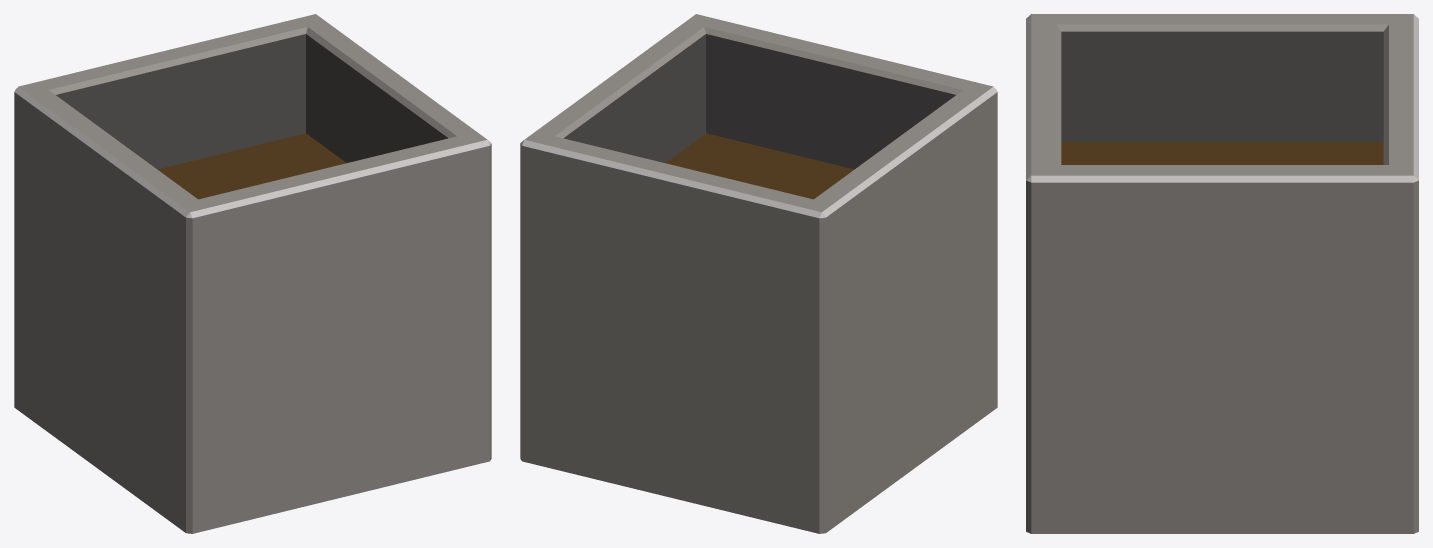
Rendered from Pot_02.glb.
3 views of the same model, side by side, from view 1: azimuth 30°, elevation 25°; view 2: azimuth 150°, elevation 25°; view 3: azimuth 270°, elevation 25° (orthographic). The views are drawn at different scales.
Parts seen in each view (by area): view 1: Pot_02; view 2: Pot_02; view 3: Pot_02.
Part boxes in pixels (left/top/right/bottom): Pot_02: left=14, top=14, right=491, bottom=533; Pot_02: left=520, top=14, right=997, bottom=533; Pot_02: left=1026, top=14, right=1418, bottom=533.
Size of what is drawn, in the model's own units: 0.5144 by 0.5144 by 0.5144.
1 material, 1 textured.
